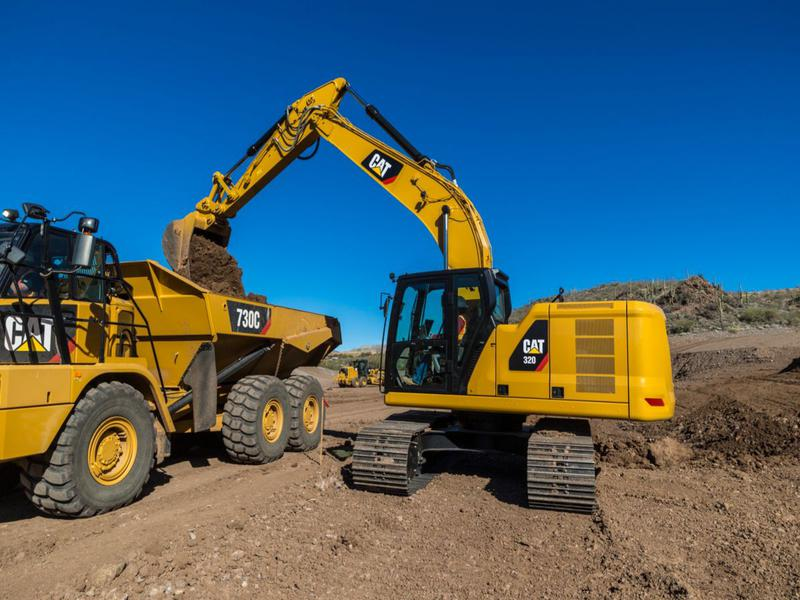shovel: (164, 72, 682, 519)
